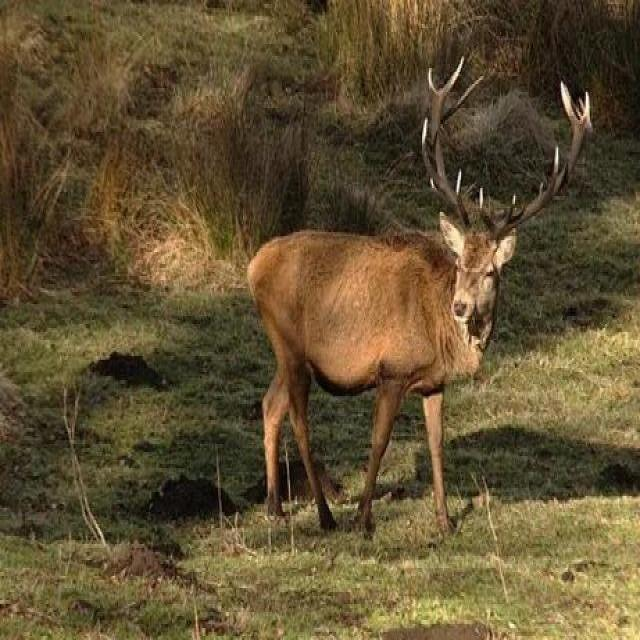deer: (172, 116, 628, 548)
